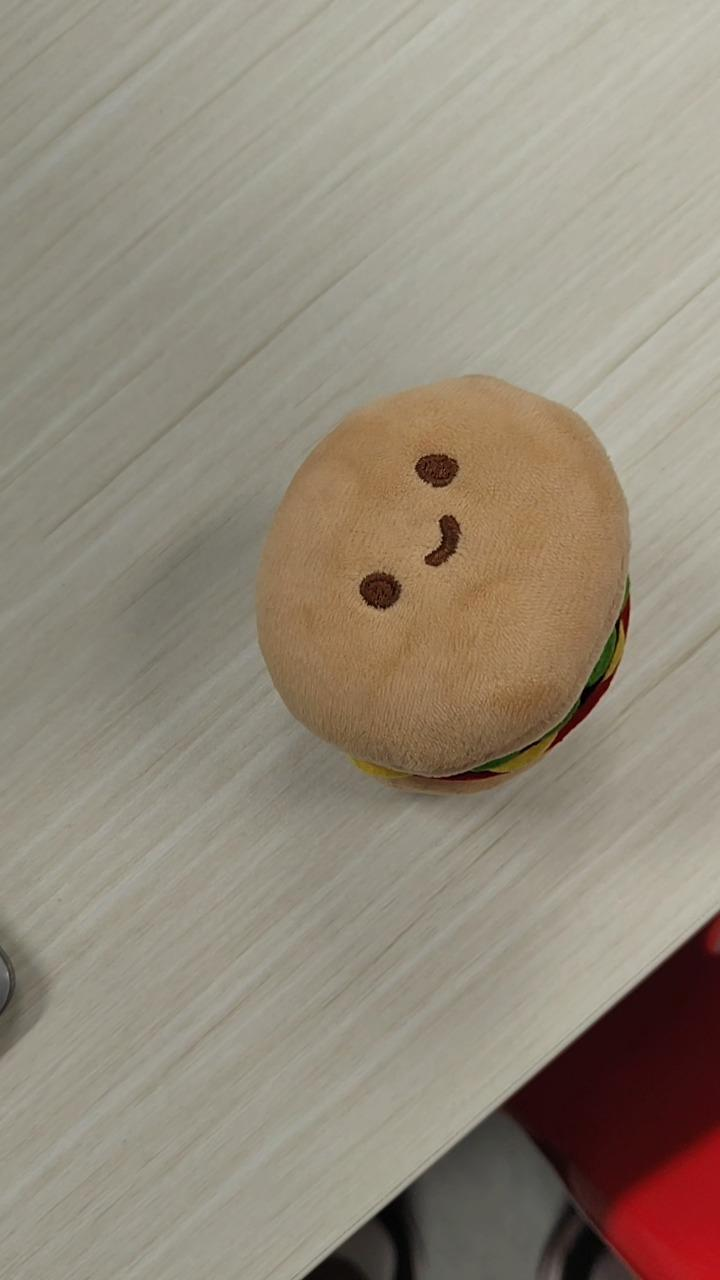hamburger: (253, 371, 633, 797)
